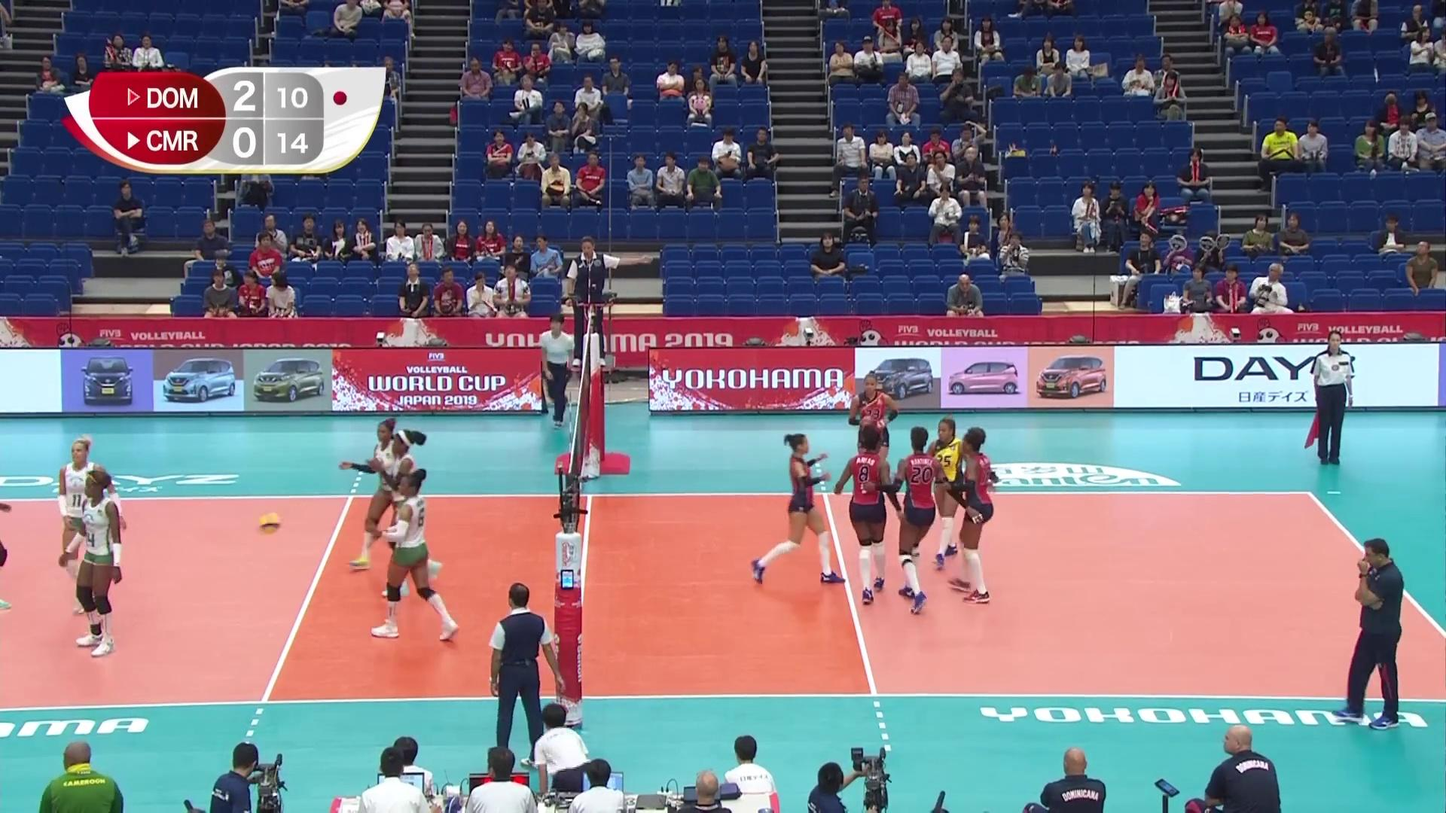player: (372, 471, 460, 641), (883, 426, 959, 615), (754, 433, 839, 589), (368, 429, 443, 595), (58, 434, 127, 614), (60, 474, 126, 657), (834, 430, 901, 606), (343, 419, 412, 566), (921, 415, 980, 571), (952, 427, 999, 604), (848, 372, 899, 510)
refree: (487, 587, 565, 769), (568, 236, 644, 366), (1309, 330, 1356, 470)
